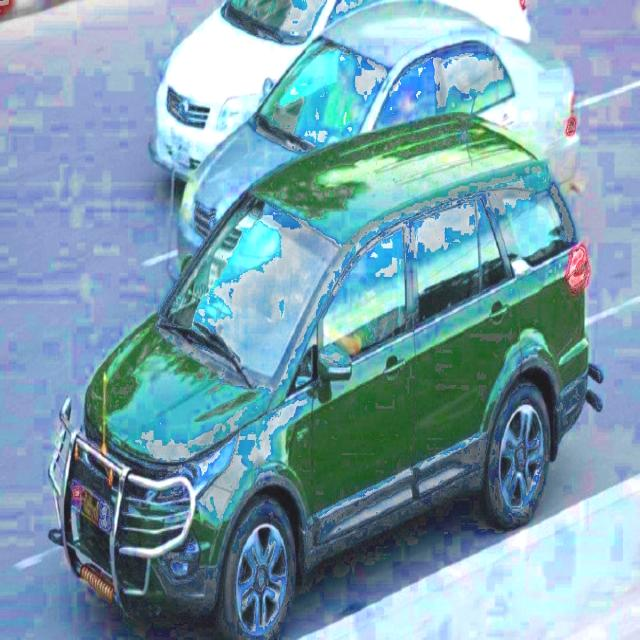green: (65, 113, 603, 640)
